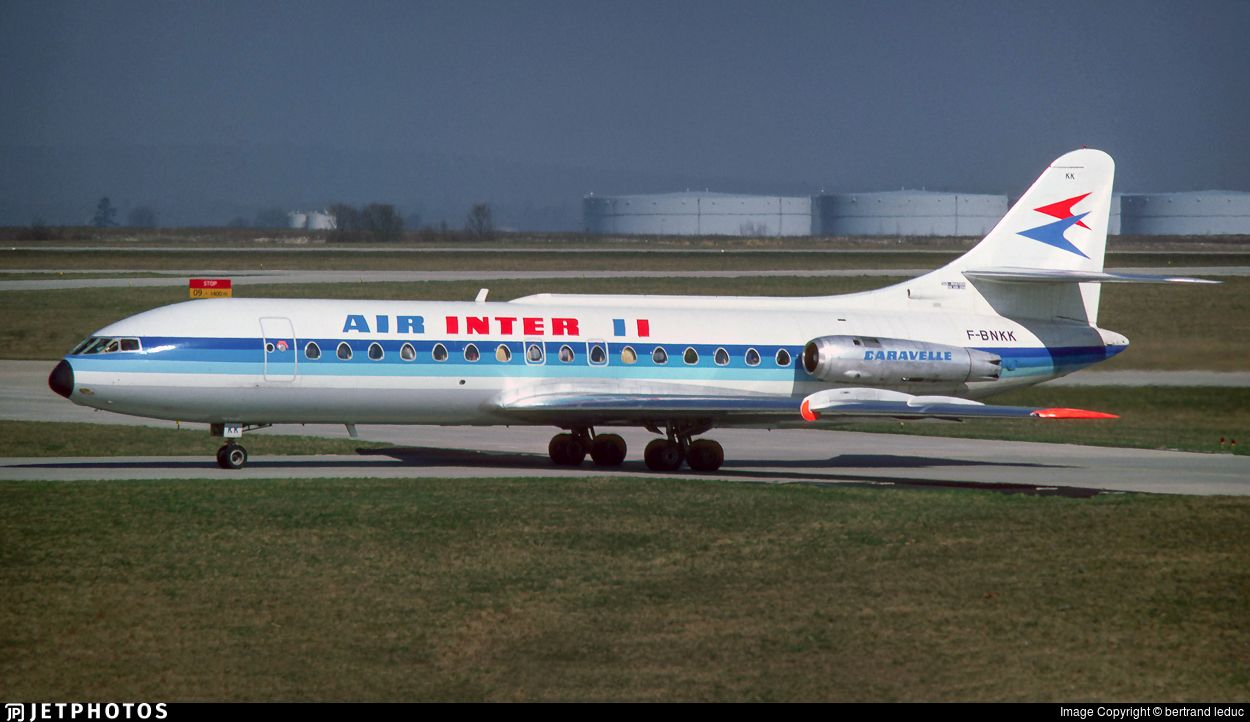Aeronef_commercial: (45, 142, 1225, 475)
